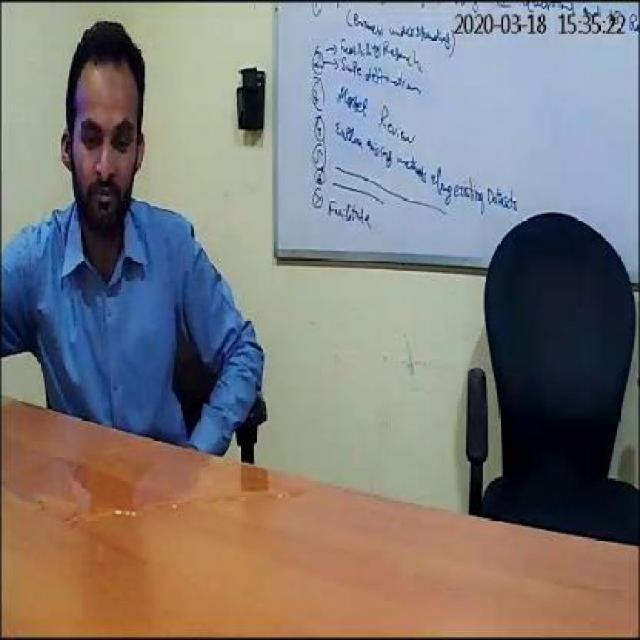spill: (14, 438, 314, 514)
